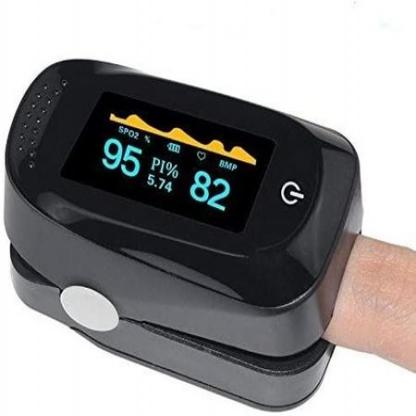Displays: (59, 90, 276, 235)
